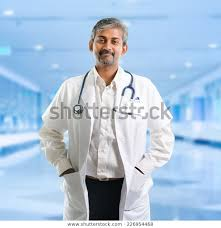Indian_Male: (89, 18, 130, 65)
